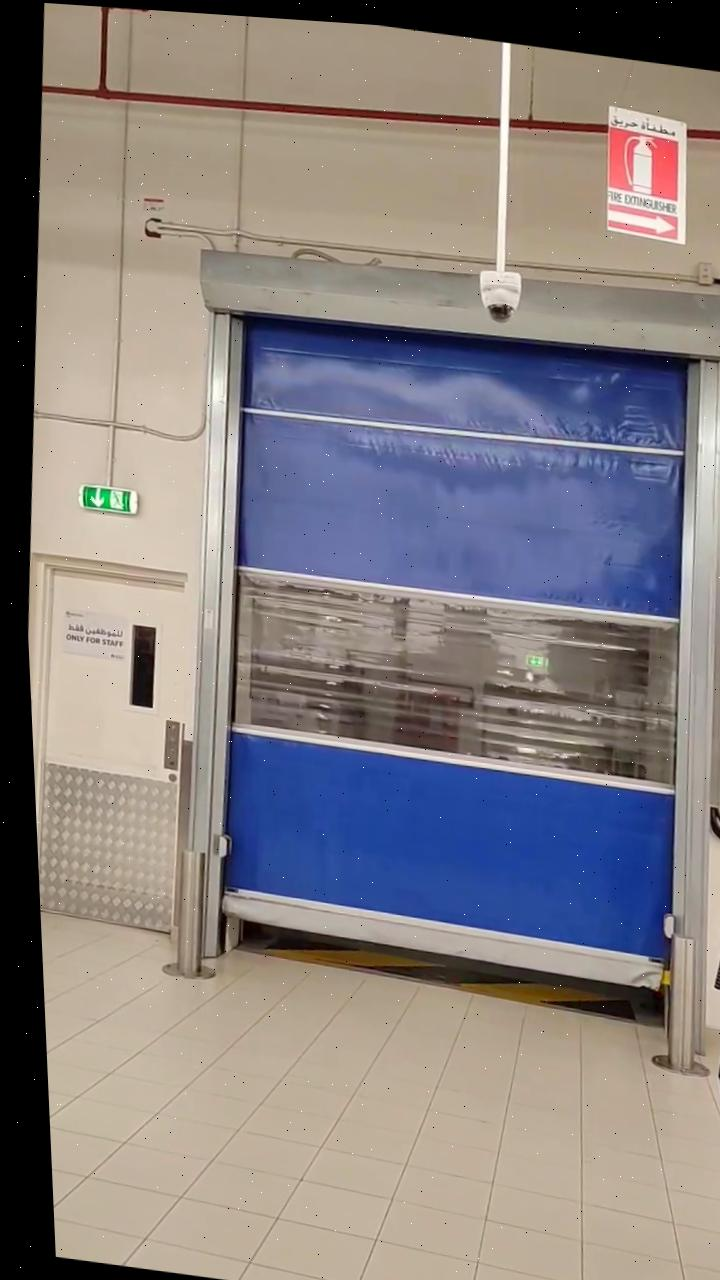Strip: (247, 921, 623, 1015)
